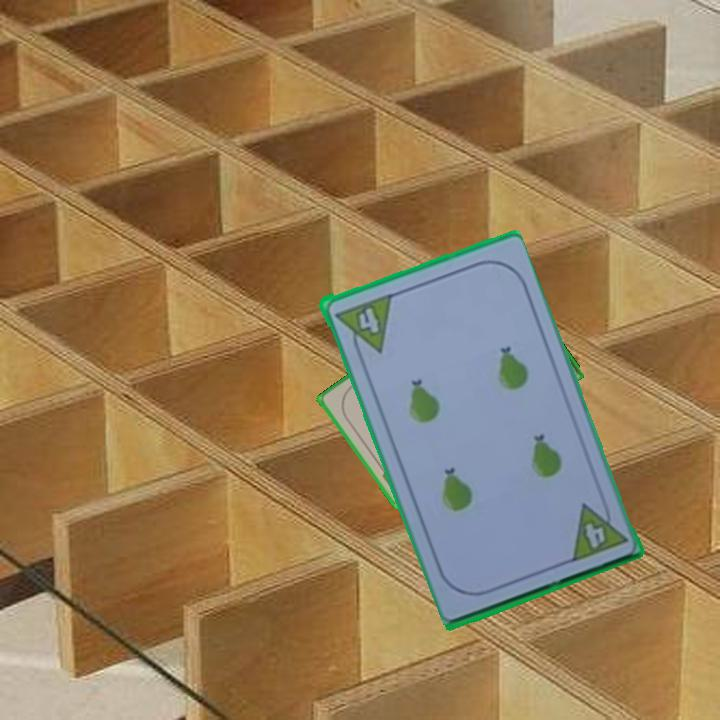4p: (330, 290, 394, 361), (567, 492, 630, 564)
